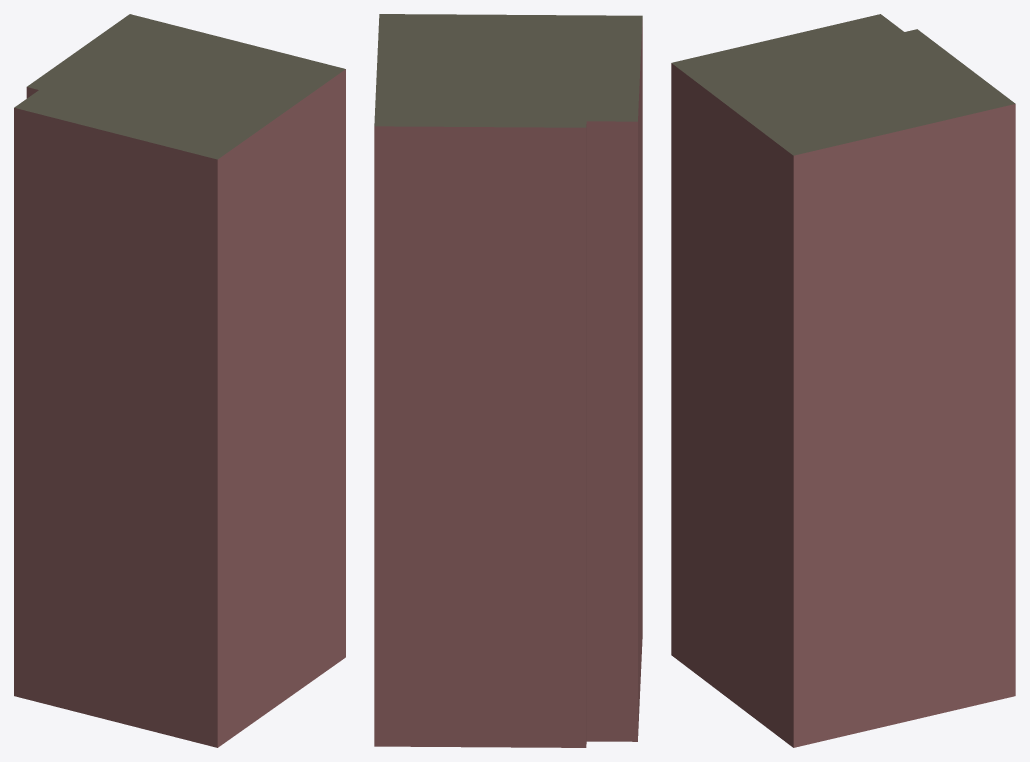
The model's file is nyc-1016014-0.glb.
3 renders of one model, left to right at view 1: azimuth 30°, elevation 25°; view 2: azimuth 150°, elevation 25°; view 3: azimuth 270°, elevation 25°, orthographic. The views are drawn at different scales.
Visible parts, largest first — view 1: nyc-1016014-0; view 2: nyc-1016014-0; view 3: nyc-1016014-0.
Boxes of the visible parts, x1,y1,x2,y2 form: nyc-1016014-0: (14,14,345,747); nyc-1016014-0: (374,14,642,747); nyc-1016014-0: (671,14,1015,747).
Bounding box in the file's own units: 39.22 × 76.41 × 40.29.
